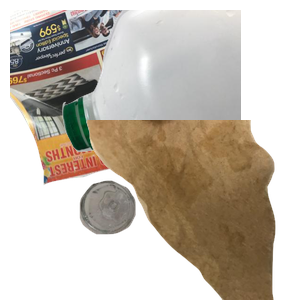glass: (77, 178, 205, 300)
paper: (10, 10, 230, 188)
plastic: (60, 10, 300, 190)
trash: (84, 120, 300, 300)
